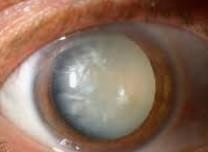eye: (38, 25, 176, 150)
